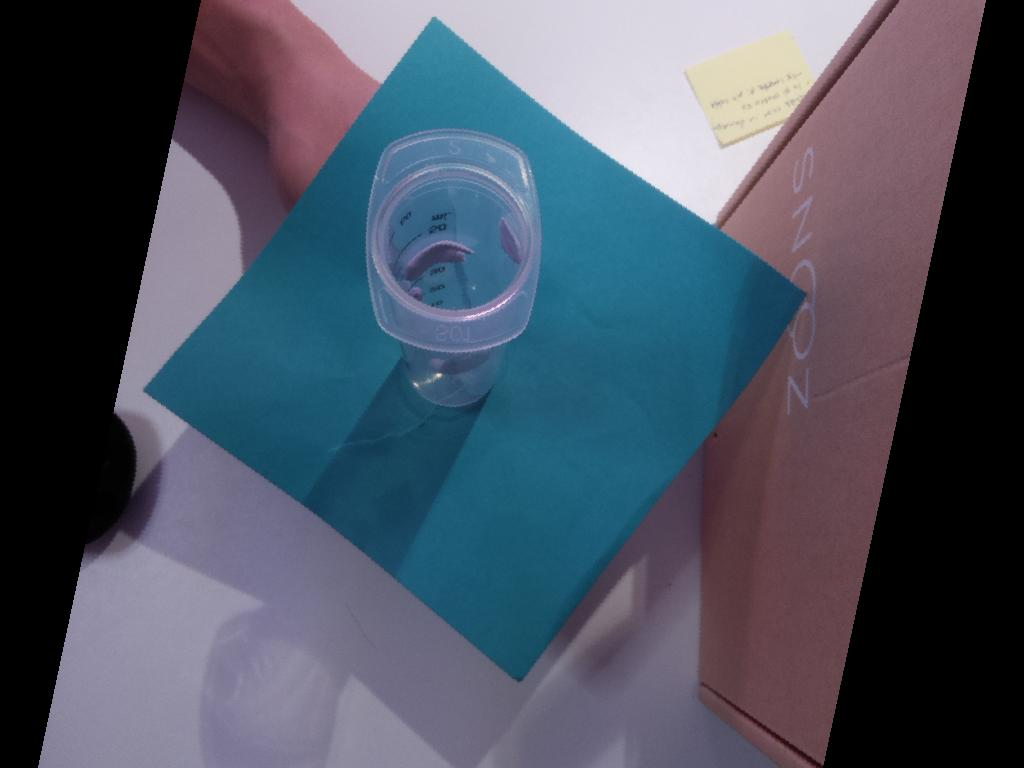dirty: (364, 126, 542, 356)
